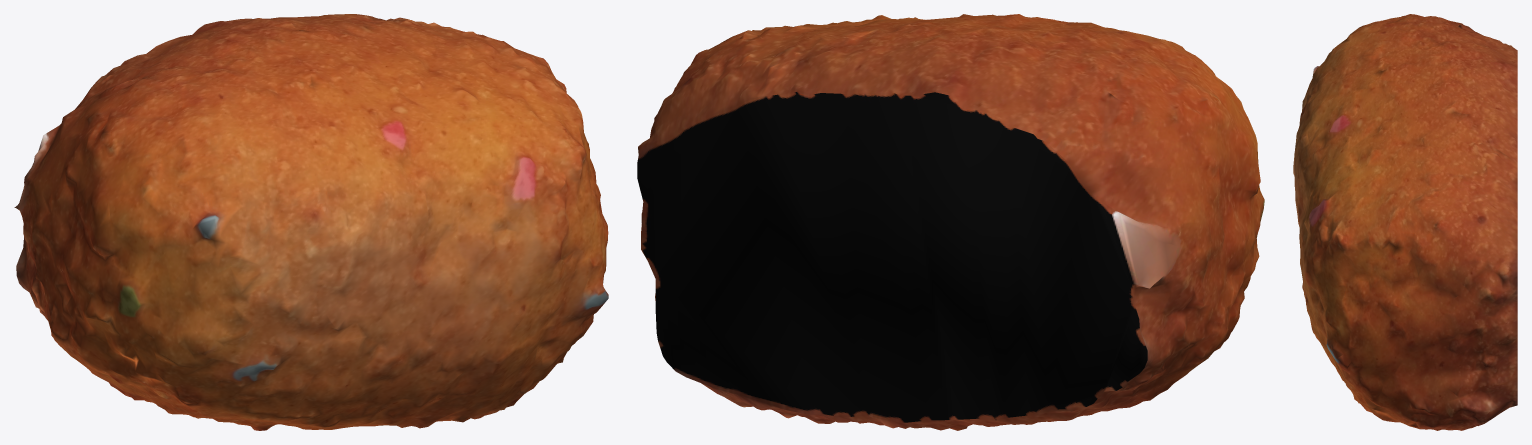
Rendered from arancina_low.fbx.
The picture shows the model from 3 angles, left to right: view 1: azimuth 30°, elevation 25°; view 2: azimuth 150°, elevation 25°; view 3: azimuth 270°, elevation 25°; orthographic projection. The views are drawn at different scales.
Parts seen in each view (by area): view 1: mainMeshNode; view 2: mainMeshNode; view 3: mainMeshNode.
Part boxes in pixels (<box>): mainMeshNode: <box>14,14,608,430</box>; mainMeshNode: <box>637,14,1264,430</box>; mainMeshNode: <box>1293,14,1517,430</box>.
Size of the model in its own units: 24.16 by 17.61 by 12.05.
1 material, 1 textured.
